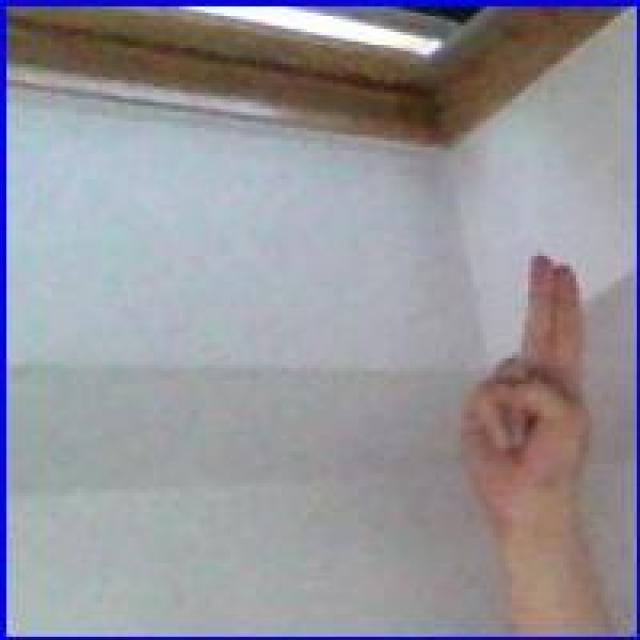U: (462, 248, 610, 542)
